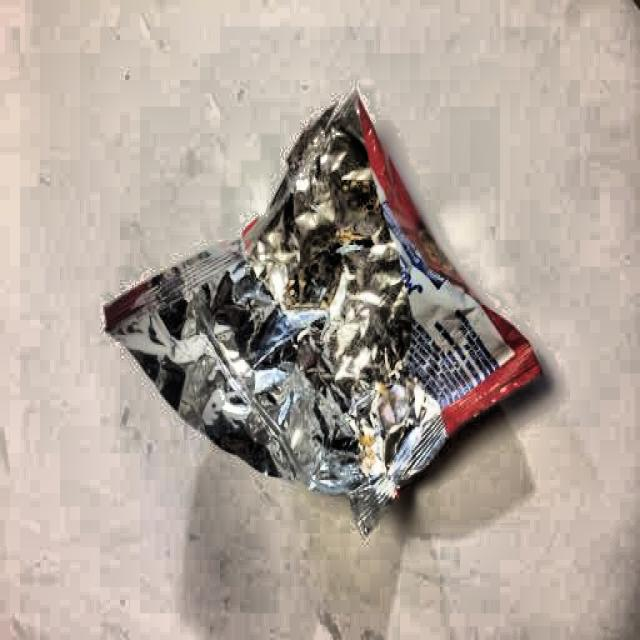trash: (113, 97, 539, 516)
